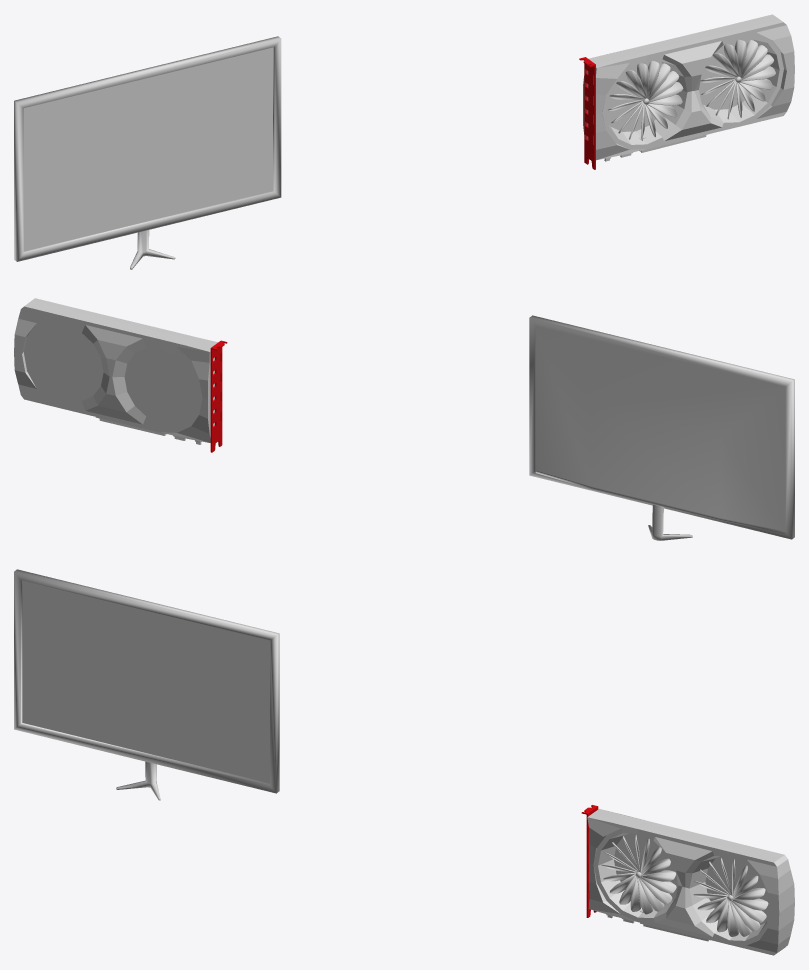
The model's file is GPU2Fan.fbx.
3 renders of one model, top to bottom at view 1: azimuth 30°, elevation 25°; view 2: azimuth 150°, elevation 25°; view 3: azimuth 330°, elevation 25°, orthographic.
Visible parts, largest first — view 1: screen, GPU2, mainScreen, fanz, MetalBar, holdingStand; view 2: mainScreen, GPU2, MetalBar, holdingStand; view 3: screen, GPU2, mainScreen, fanz.
Part boxes in pixels (x1,y1,x2,y2): screen: [23, 47, 272, 251]; GPU2: [583, 14, 794, 160]; mainScreen: [14, 36, 281, 261]; fanz: [608, 39, 775, 140]; MetalBar: [579, 57, 595, 169]; holdingStand: [130, 230, 175, 269]; mainScreen: [529, 315, 794, 539]; GPU2: [14, 298, 217, 442]; MetalBar: [210, 340, 227, 452]; holdingStand: [648, 504, 692, 540]; screen: [22, 580, 269, 782]; GPU2: [587, 809, 794, 955]; mainScreen: [14, 569, 279, 793]; fanz: [601, 835, 768, 936].
Bounding box in the file's own units: 23.93 × 6.13 × 1.03.
